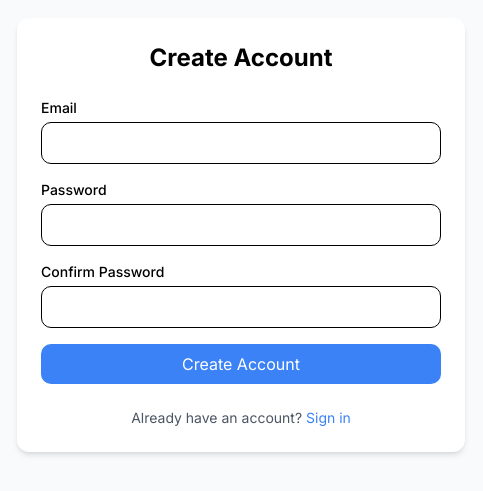
Test: SignUpPage › displays error message on failed sign up
Type "test@example.com" into the field labelled "Email". click: (241,143)
box: [41, 122, 441, 164]
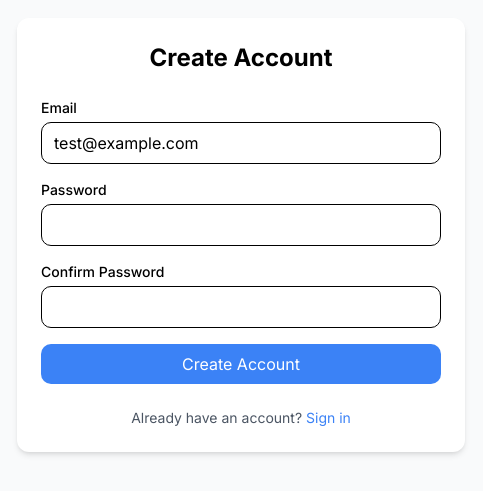
Type "password123" into the password field labelled "Password". click: (241,225)
box: [41, 204, 441, 246]
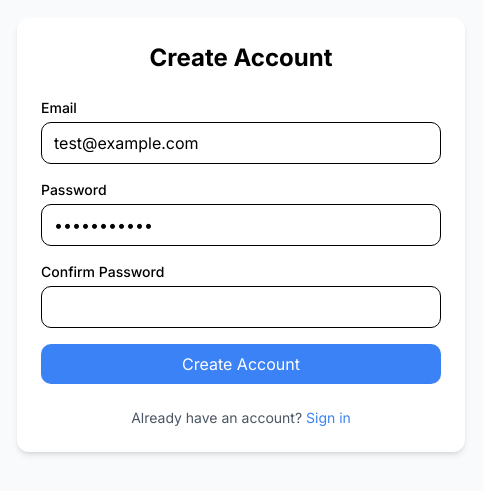
Type "password123" into the password field labelled "Confirm Password". click: (241,307)
box: [41, 286, 441, 328]
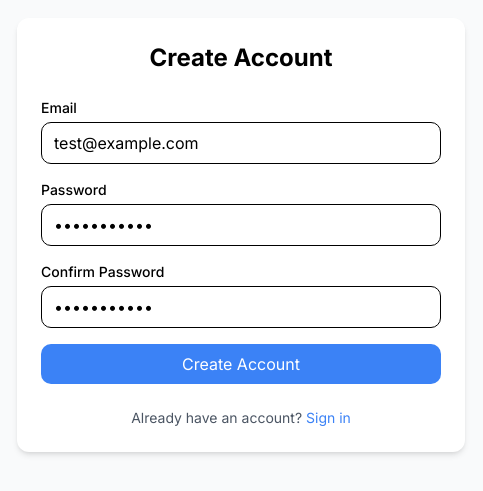
Submit the form from the button "Create Account", box [41, 344, 441, 384]
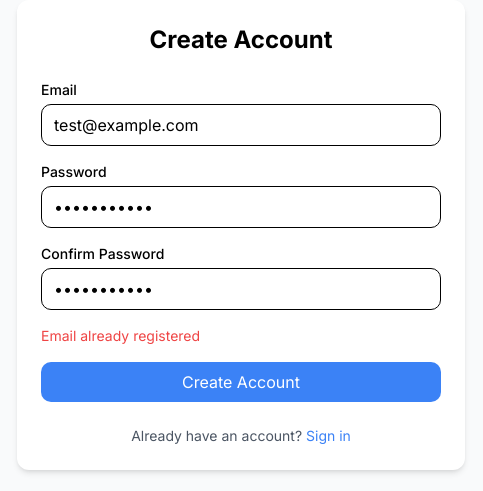
Expected: the text "Email already registered" is shown, [41, 327, 200, 344]
